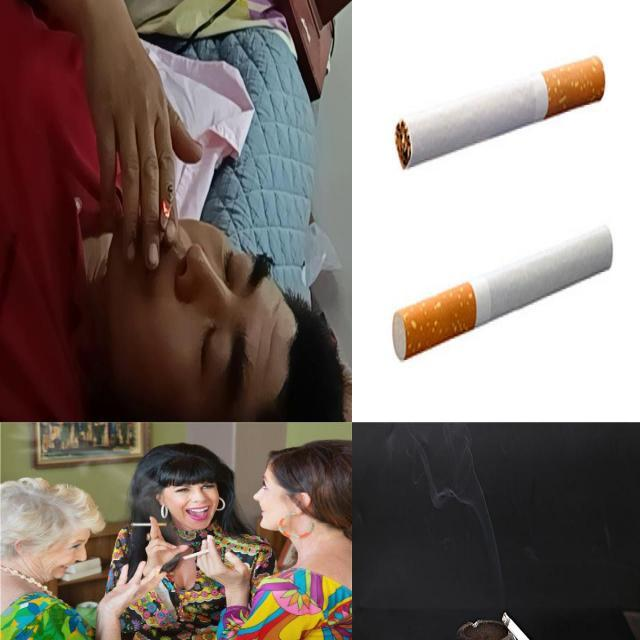smoke: (392, 222, 614, 364), (394, 54, 606, 170), (500, 607, 563, 639), (156, 184, 174, 247), (181, 544, 223, 560), (129, 522, 168, 527)
